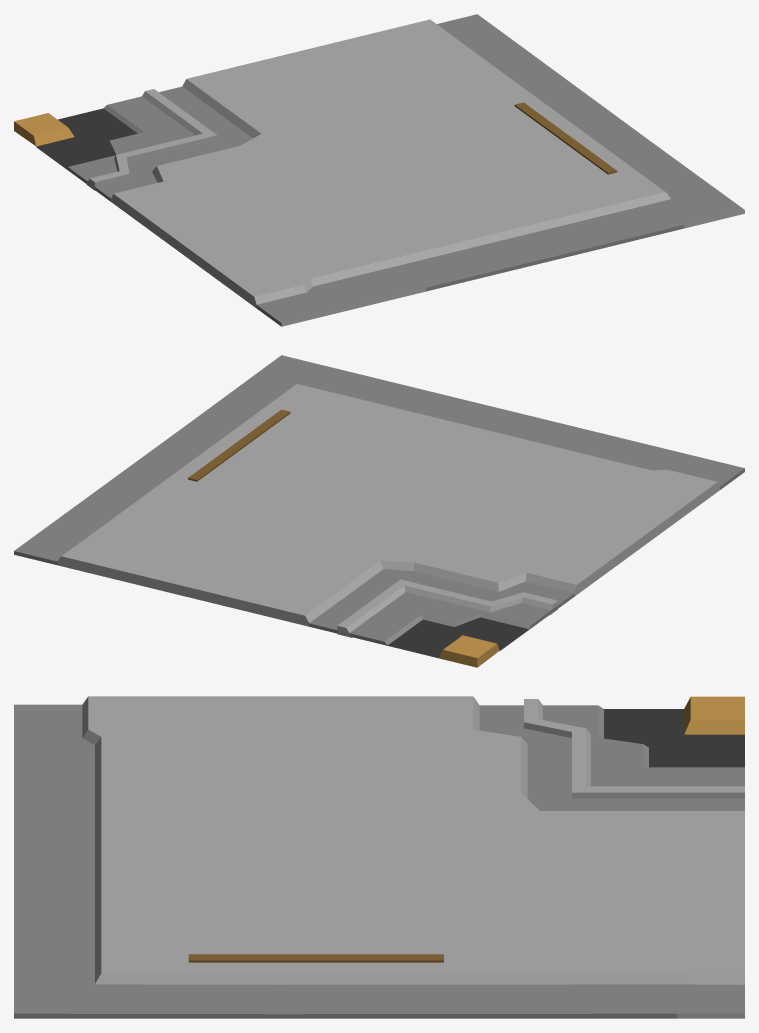
The model's file is FloorTile_InnerCorner_GD.glb.
The picture shows the model from 3 angles, top to bottom: view 1: azimuth 30°, elevation 25°; view 2: azimuth 150°, elevation 25°; view 3: azimuth 270°, elevation 25°; orthographic projection. The views are drawn at different scales.
Visible parts, largest first — view 1: FloorTile_InnerCorner; view 2: FloorTile_InnerCorner; view 3: FloorTile_InnerCorner.
Boxes of the visible parts, left/top/right/bottom form: FloorTile_InnerCorner: left=14, top=14, right=744, bottom=326; FloorTile_InnerCorner: left=14, top=355, right=744, bottom=667; FloorTile_InnerCorner: left=14, top=696, right=744, bottom=1018.
Bounding box in the file's own units: 15 × 0.3824 × 15.
